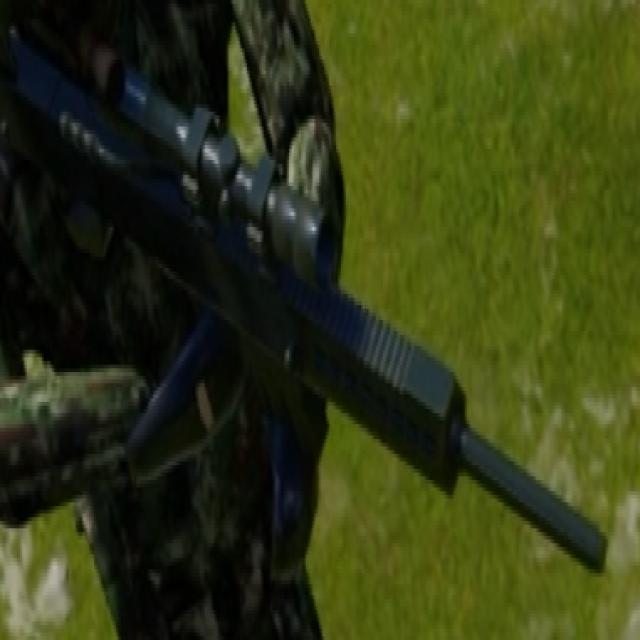RifleTel: (6, 13, 614, 609)
